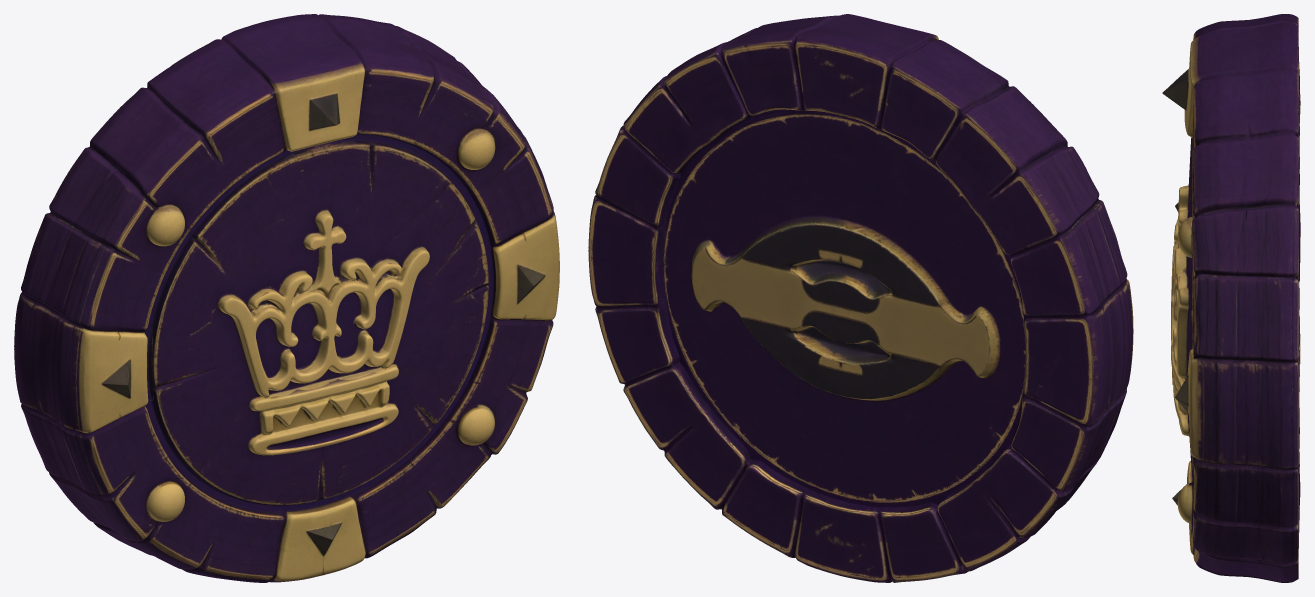
The model's file is batch2_01.glb.
3 renders of one model, left to right at view 1: azimuth 30°, elevation 25°; view 2: azimuth 150°, elevation 25°; view 3: azimuth 270°, elevation 25°, orthographic. The views are drawn at different scales.
Bounding box in the file's own units: 1.9 × 1.9 × 0.4606.
1 material, 1 textured.
